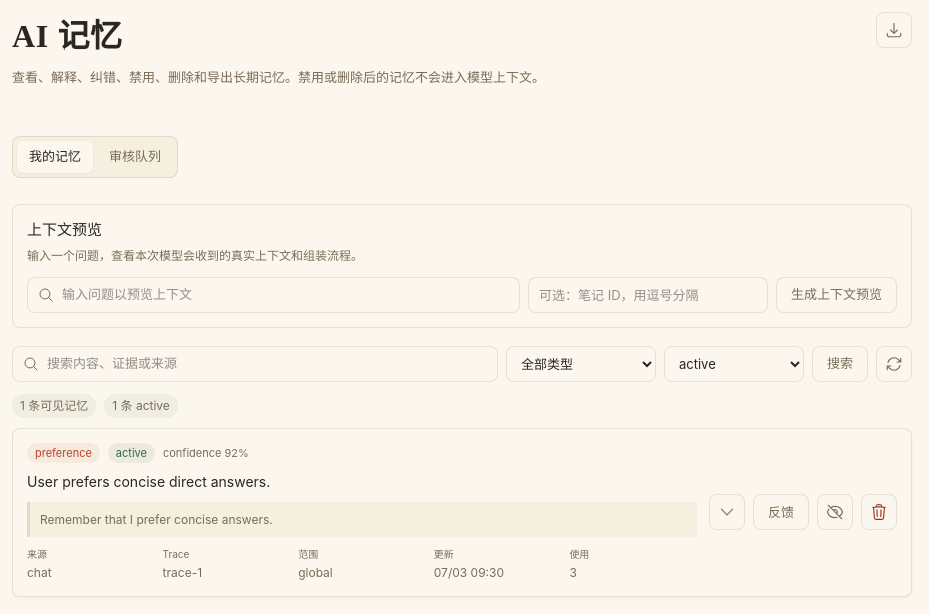
MemoryControlPanel behavior › loads admin review cases lazily and handles 403 without breaking user memories
The width and height of the screenshot is (929, 614).
expect the text "User prefers concise direct answers." is shown: met, box [27,473,270,490]
Click the tab "审核队列": (135, 157) [97,141,173,173]
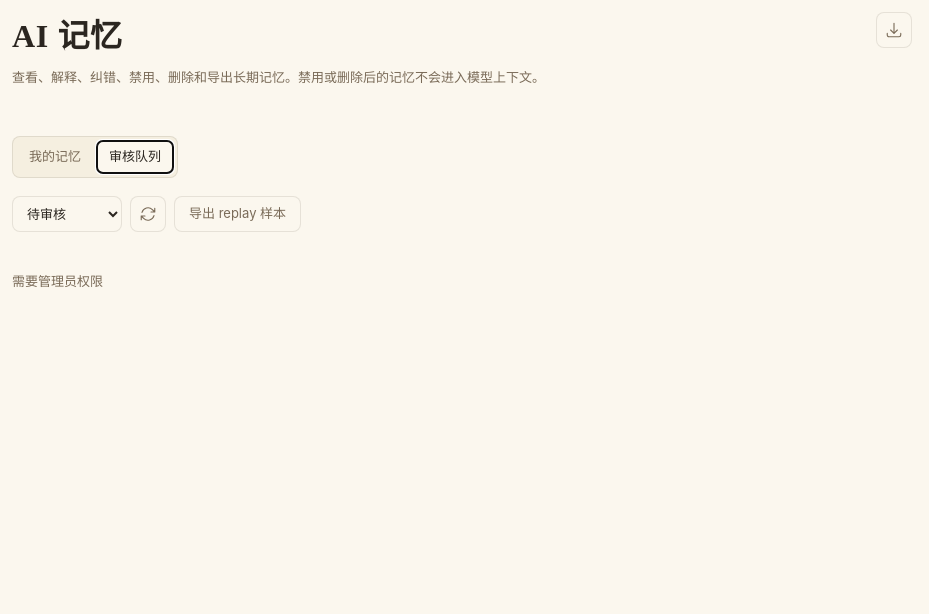
expect the text "需要管理员权限" is shown: met, box [12,273,103,289]
Click the tab "我的记忆": (55, 157) [17,141,93,173]
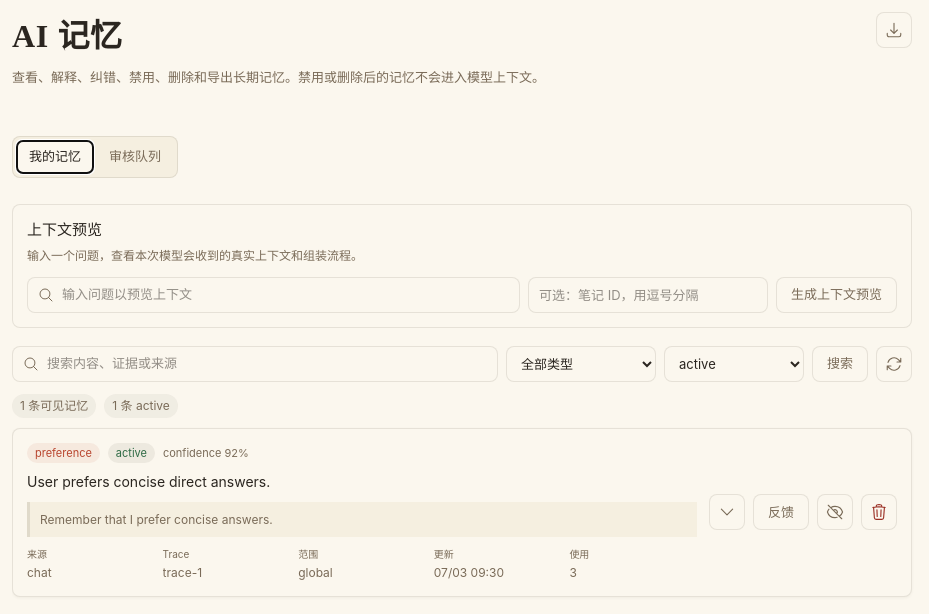
expect the text "User prefers concise direct answers." is shown: met, box [27,473,270,490]
